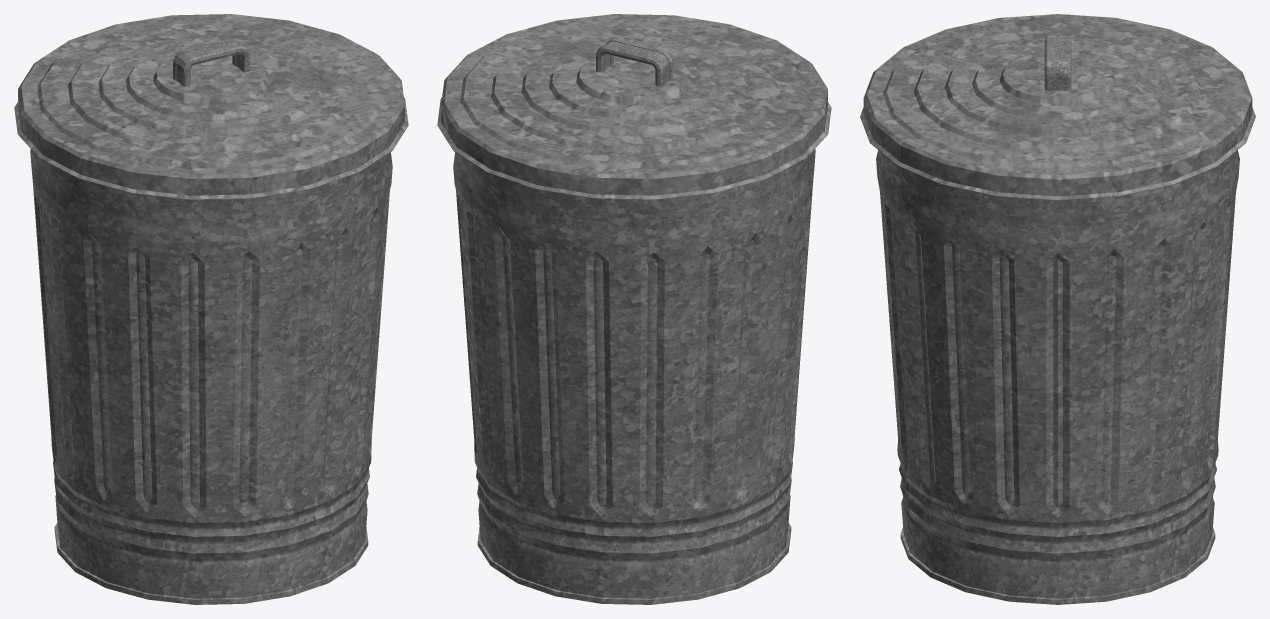
Rendered from galv_can.glb.
3 renders of one model, left to right at view 1: azimuth 30°, elevation 25°; view 2: azimuth 150°, elevation 25°; view 3: azimuth 270°, elevation 25°, orthographic.
Visible parts, largest first — view 1: dock; view 2: dock; view 3: dock.
Part boxes in pixels (left/top/right/bottom): dock: left=14, top=14, right=408, bottom=604; dock: left=437, top=14, right=831, bottom=604; dock: left=860, top=14, right=1255, bottom=604.
Bounding box in the file's own units: 0.5629 × 0.7685 × 0.5629.
Materials: 1 (1 with a texture image).
